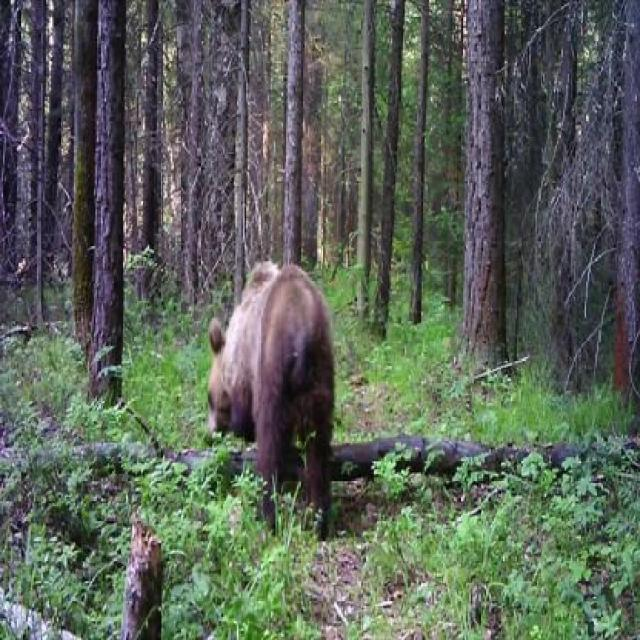Bear: (196, 228, 339, 529)
